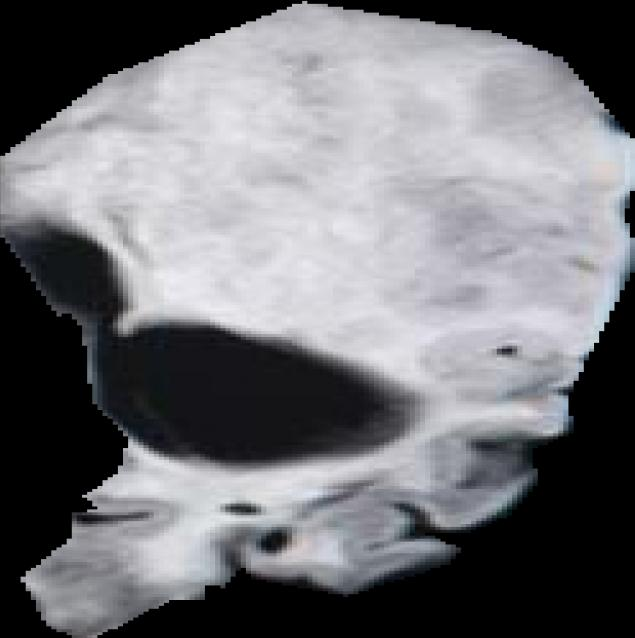tumor_less_chance: (0, 1, 635, 638)
